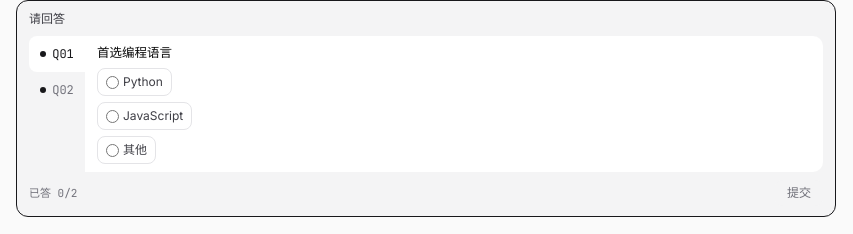
Test case: ComponentPendingQuestionCard · 提交（aria-disabled → enabled → onSubmit） › 未答完 hover 提交按钮 → 弹「请回答完问题再提交」提示
Hover over the element showing "提交" at (799, 193), box [775,180,823,206]
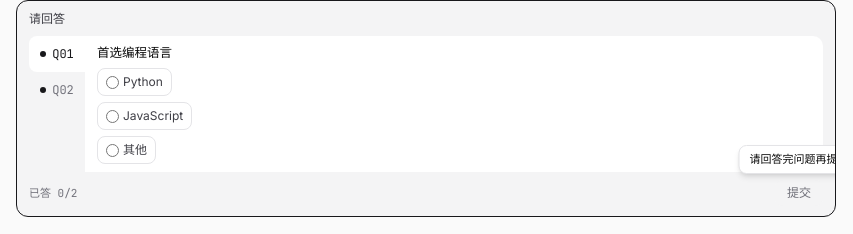
Now the text "请回答完问题再提交" is shown, box [750,152,836,166]
